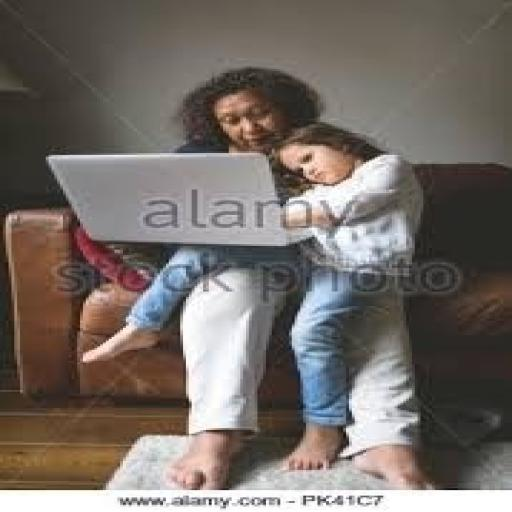using_laptop: (43, 149, 312, 248)
